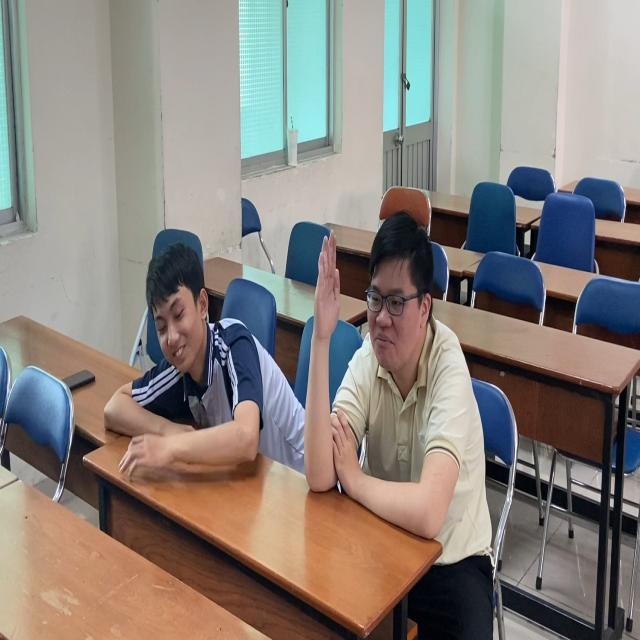raise_hand: (298, 199, 492, 554)
